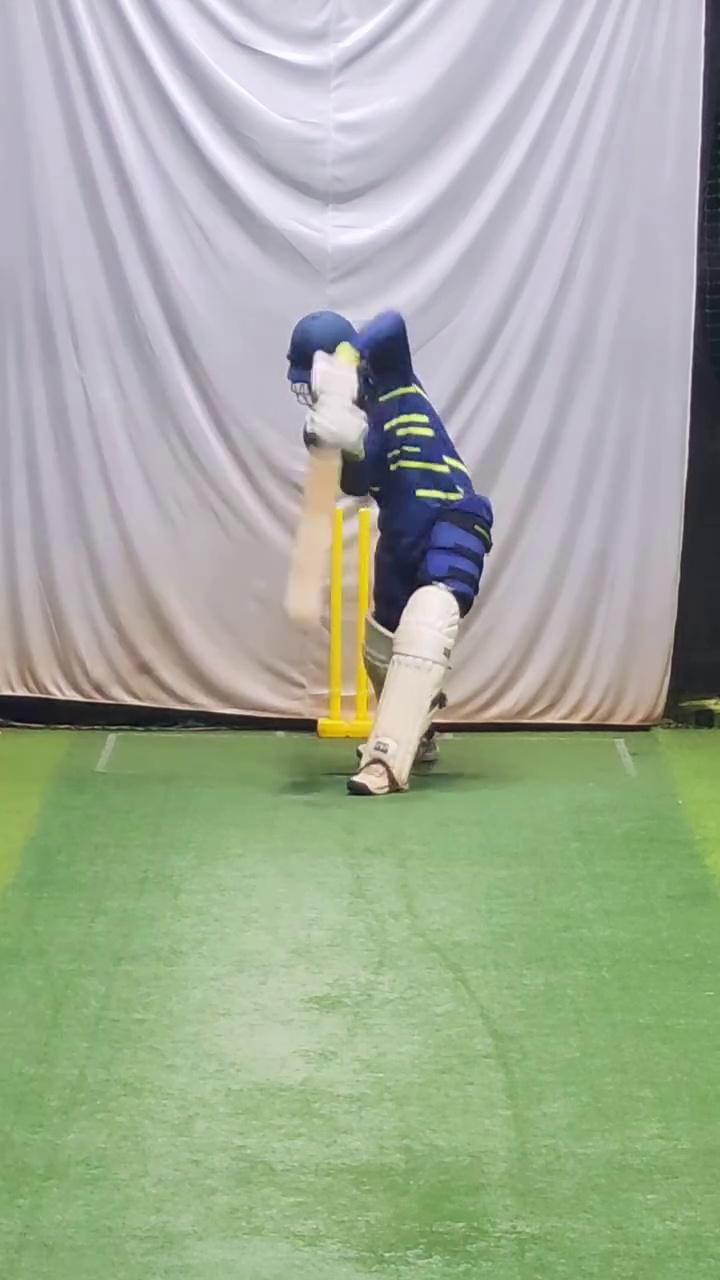bat: (282, 447, 342, 629)
